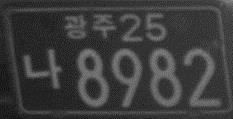2: (182, 46, 222, 108), (119, 11, 143, 43)
5: (145, 11, 167, 41)
8: (74, 47, 111, 108), (147, 47, 184, 107)
9: (111, 47, 143, 108)
광주_O: (62, 12, 117, 39)
나: (21, 47, 61, 89)
